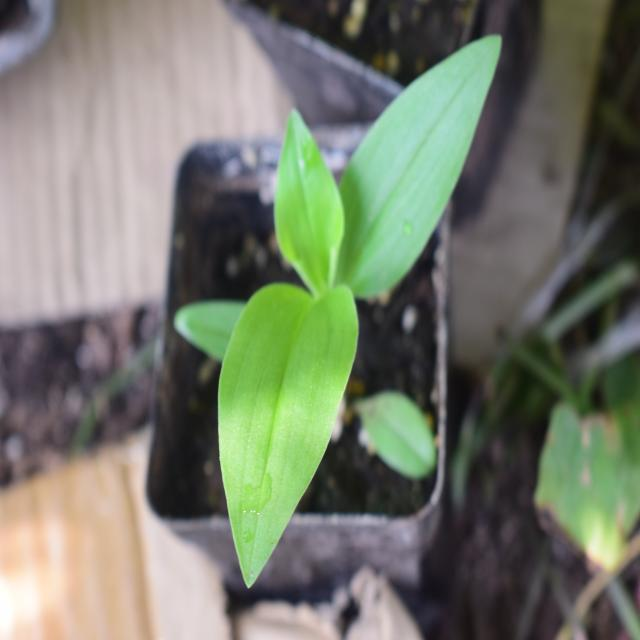Common Dayflower: (186, 40, 508, 537)
